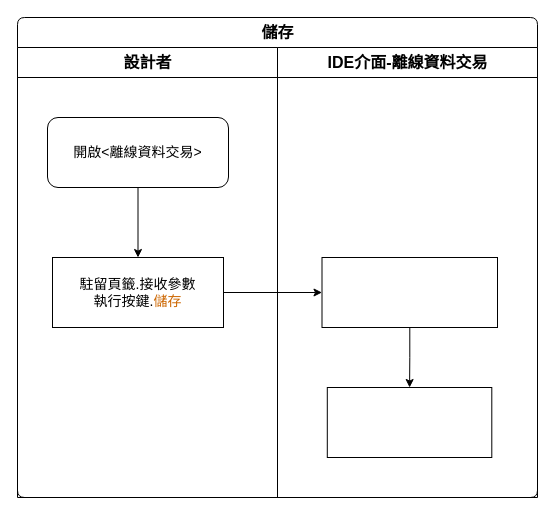
The diagram is 555 pixels wide and 515 high, and some of its shapes have lost their labels. Each missing label, with the box of its shape:
儲存完成 畫面回到瀏覽狀態: (326, 386, 492, 458)
儲存本次異動內容: (321, 256, 498, 328)
